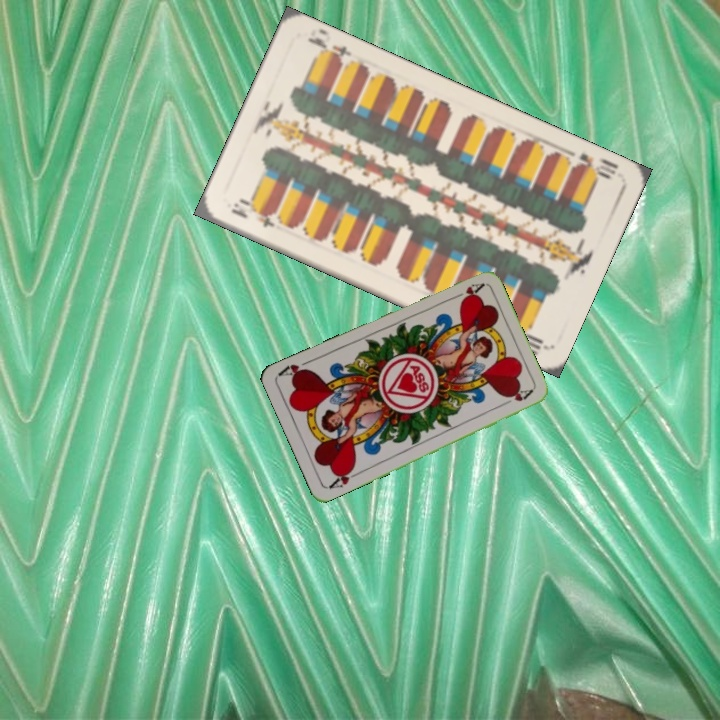E10: (564, 148, 620, 182), (227, 196, 278, 230)
HA: (324, 463, 363, 492), (447, 279, 486, 305)
